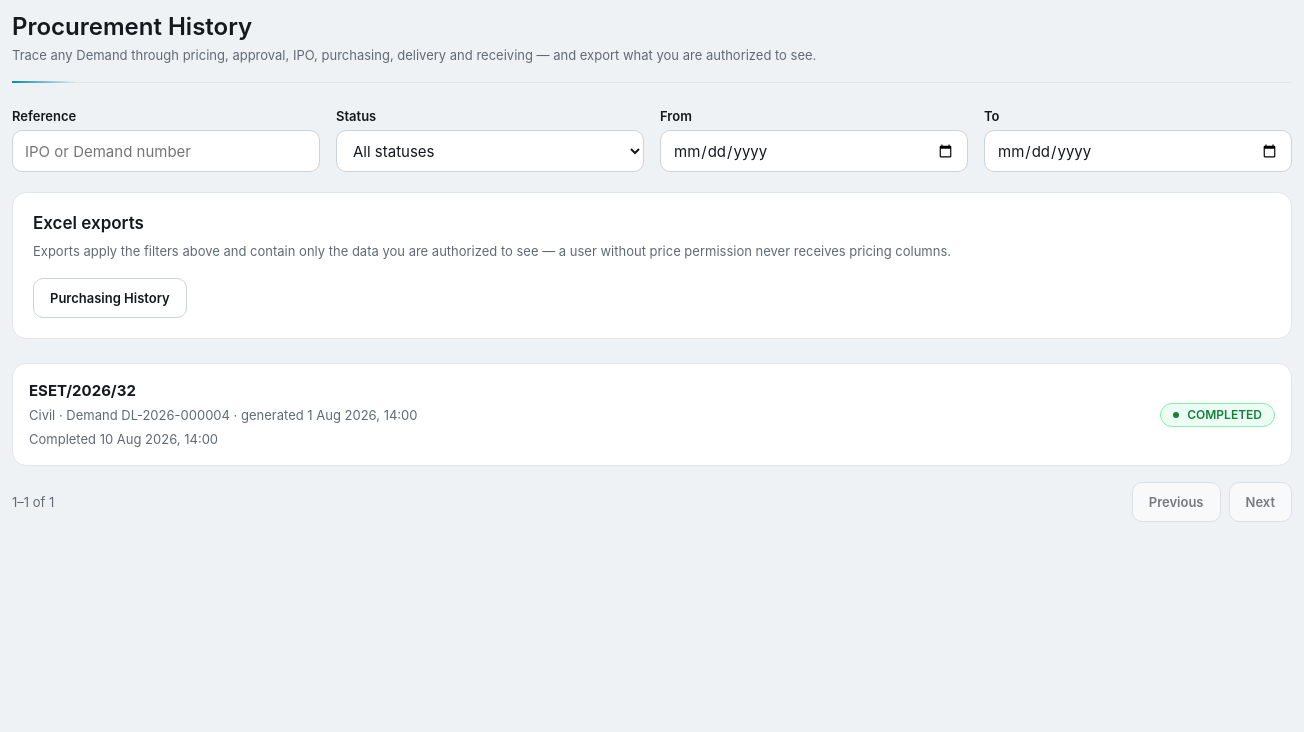
Scenario: ProcurementHistoryPage › surfaces a refused export instead of failing silently
Click the button "Purchasing History" at (110, 298), box x1=33 y1=278 x2=187 y2=318
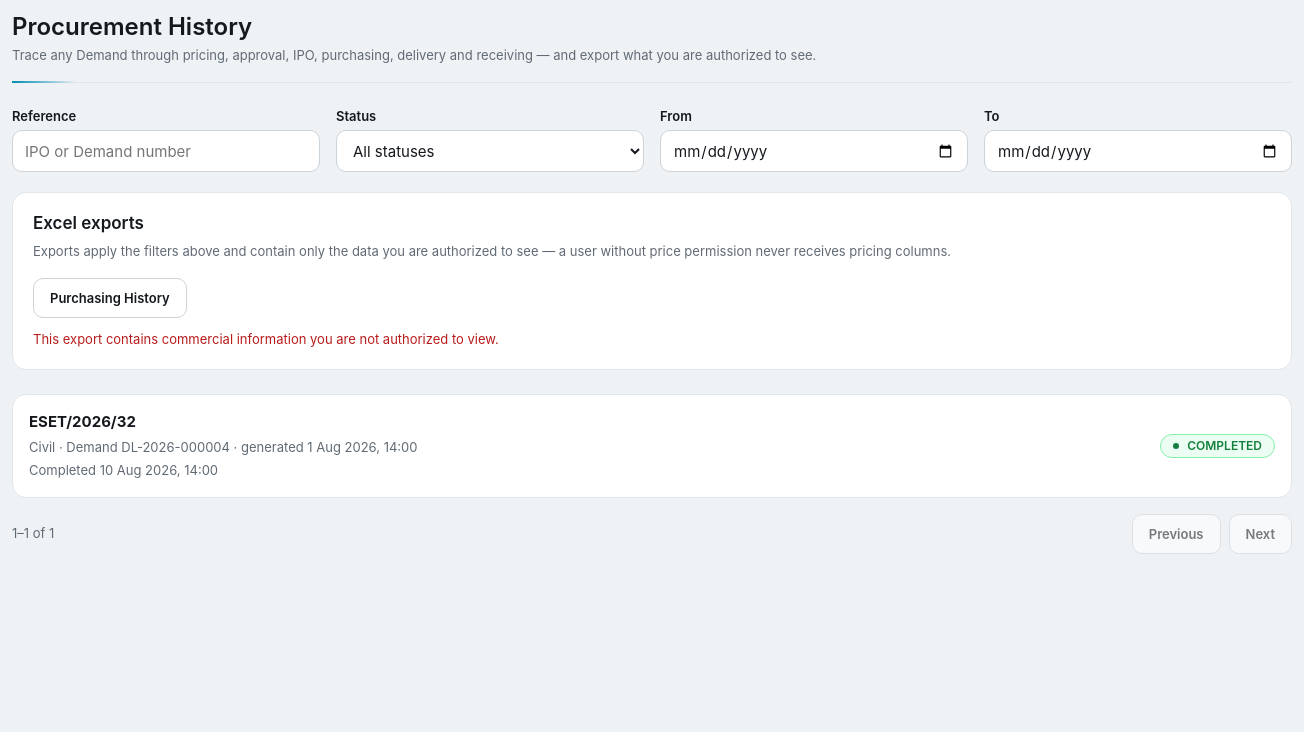
Now the message shows "not authorized", box x1=33 y1=331 x2=499 y2=347
